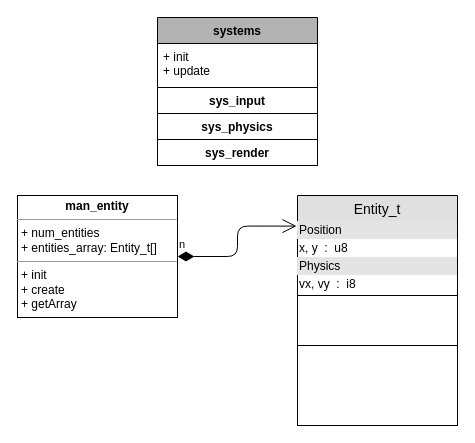
The diagram is 475 pixels wide and 443 high, and some of its shapes have lost their labels. Each missing label, with the centre of its shape:
Render w, h : u8 (size) sprite : u8 (sprite_id): [377,320]
RPG energy : u8 attack : u8 defense: u8 force : u8: [377,385]
